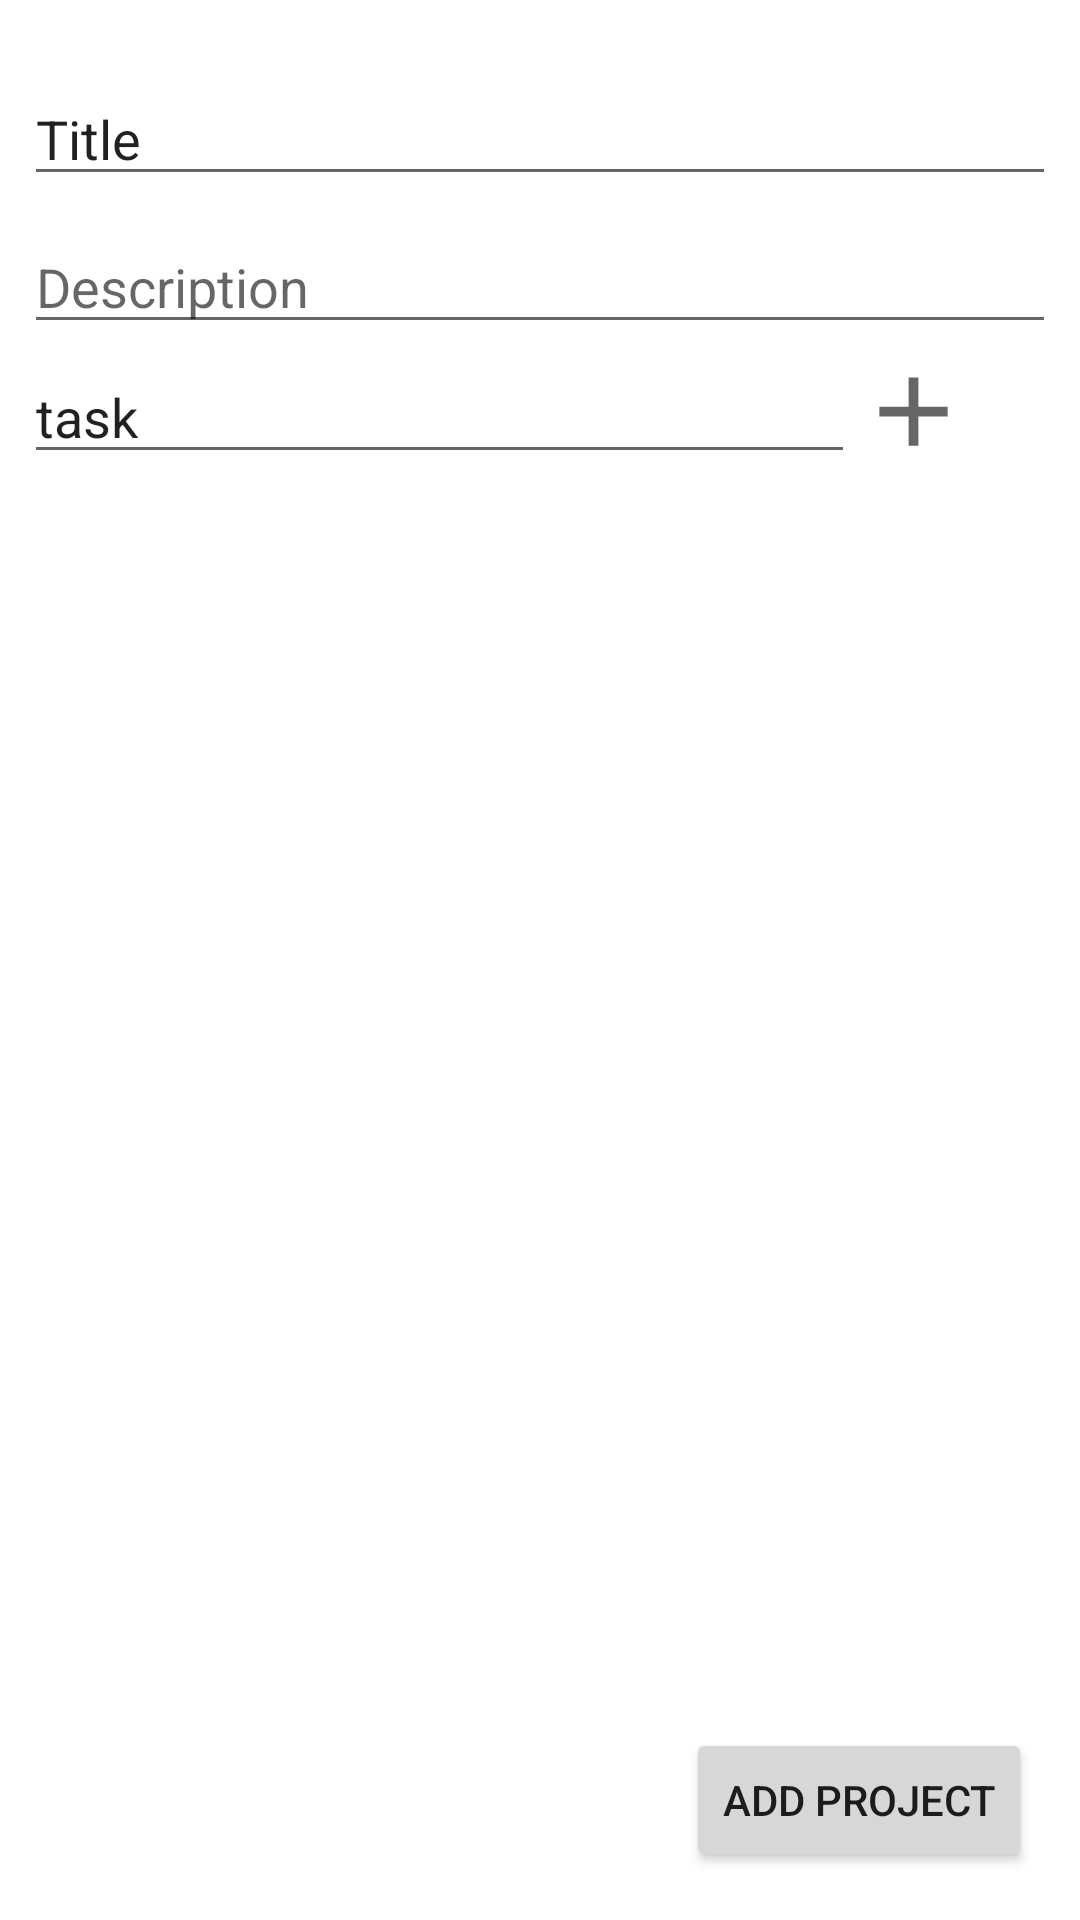

Named icons in this screenshot (1080×1920) and their bounding boxes, (x1, y1, x2, y2):
add: (879, 377, 948, 446)
